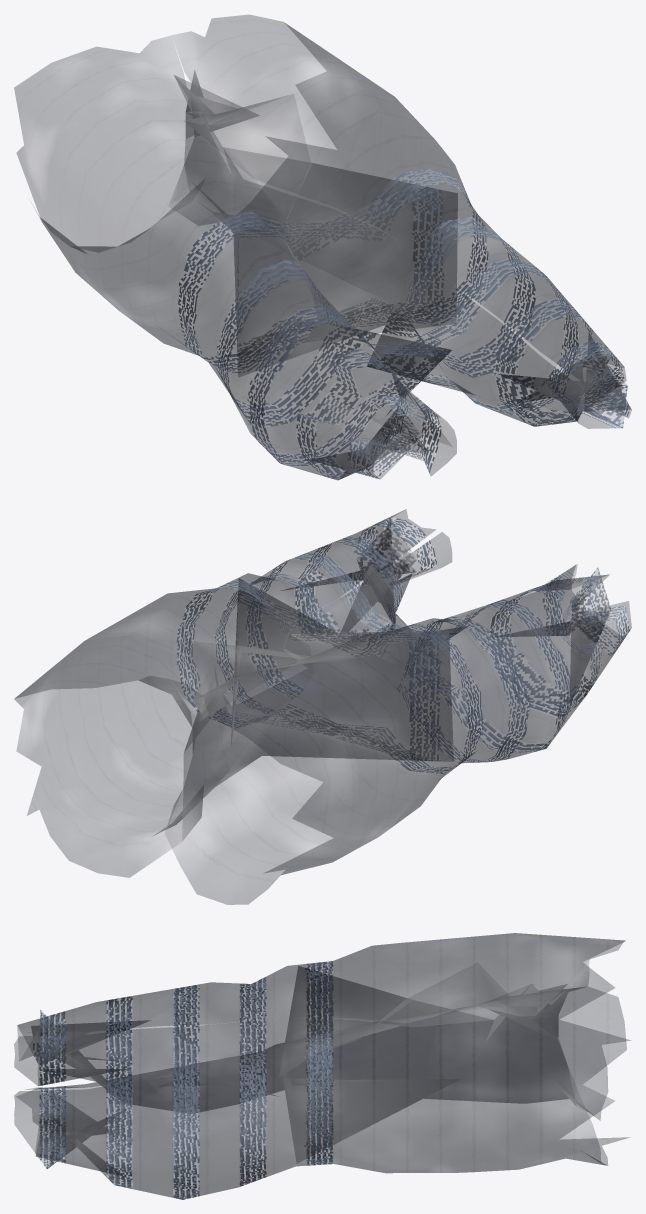
Rendered from jambieres_saphir.glb.
The picture shows the model from 3 angles, top to bottom: view 1: azimuth 30°, elevation 25°; view 2: azimuth 150°, elevation 25°; view 3: azimuth 270°, elevation 25°; orthographic projection. The views are drawn at different scales.
Parts seen in each view (by area): view 1: jambieres_saphir; view 2: jambieres_saphir; view 3: jambieres_saphir.
Boxes of the visible parts, <box> form: jambieres_saphir: <box>14,15,631,480</box>; jambieres_saphir: <box>14,509,631,904</box>; jambieres_saphir: <box>14,933,630,1199</box>.
Bounding box in the file's own units: 0.4195 × 0.2762 × 0.8328.
1 material, 1 textured.
